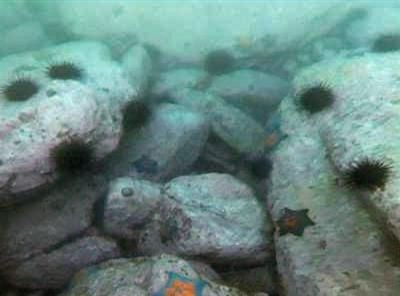urchin: (51, 135, 98, 172), (297, 84, 339, 115), (1, 75, 42, 102), (120, 97, 155, 128), (45, 59, 85, 83), (206, 49, 238, 76), (250, 154, 275, 180), (373, 32, 400, 52)
